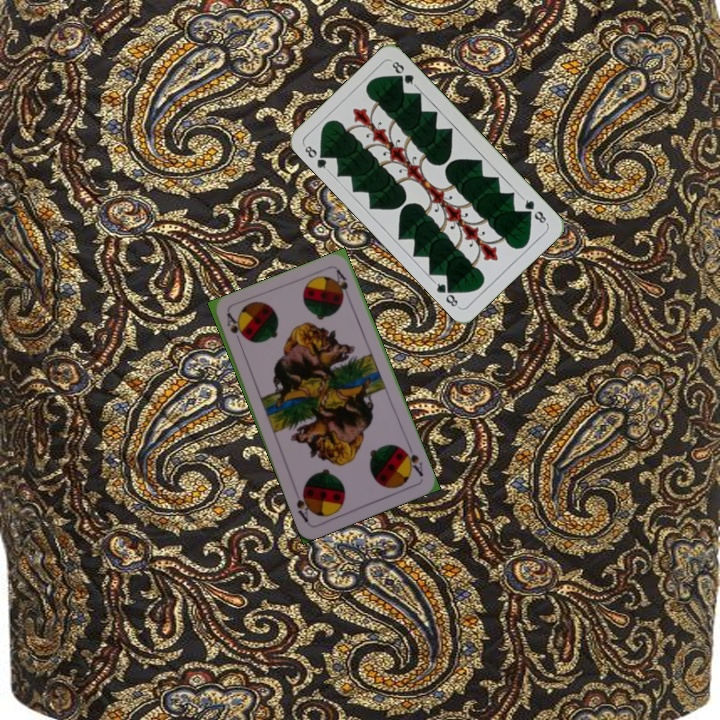G8: (299, 140, 331, 174), (518, 194, 550, 227)
SA: (398, 441, 426, 479), (223, 309, 245, 348)
